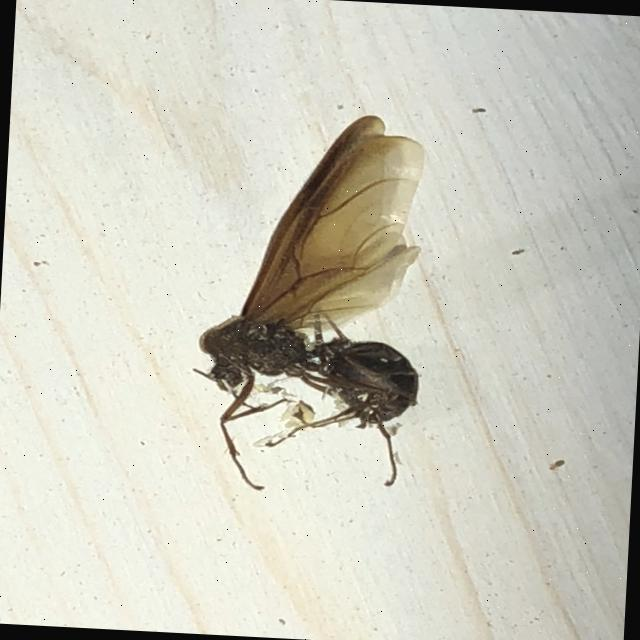Dead-Male-Alate: (185, 107, 434, 500)
